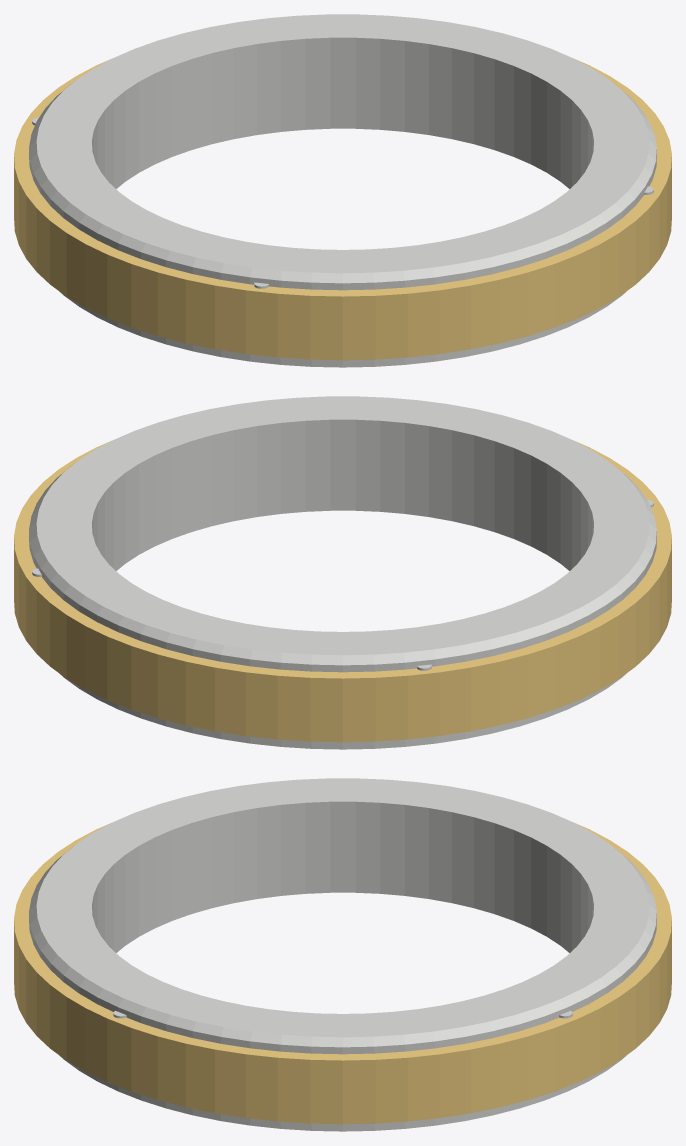
The model's file is ax_util_30_sunshade_m.glb.
3 renders of one model, top to bottom at view 1: azimuth 30°, elevation 25°; view 2: azimuth 150°, elevation 25°; view 3: azimuth 270°, elevation 25°, orthographic.
Parts seen in each view (by area): view 1: canister_ring, membrane_stowed; view 2: canister_ring, membrane_stowed; view 3: canister_ring, membrane_stowed.
Boxes of the visible parts, box(x1,y1,x2,y2) form: canister_ring: box(29, 14, 656, 367); membrane_stowed: box(14, 59, 671, 360); canister_ring: box(29, 396, 656, 749); membrane_stowed: box(14, 441, 671, 742); canister_ring: box(29, 778, 656, 1131); membrane_stowed: box(14, 823, 671, 1124).
Size of the model in its own units: 2.62 by 0.4 by 2.62.
